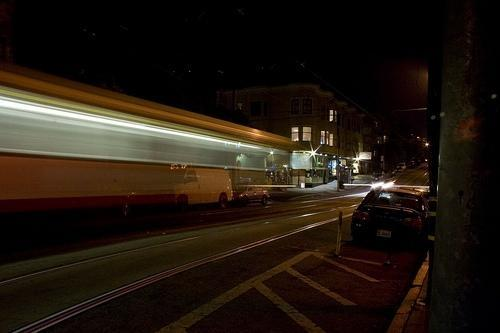bus: (290, 151, 329, 187)
car: (353, 185, 426, 247), (235, 186, 272, 206), (396, 160, 406, 171)
truck: (145, 167, 234, 210)
